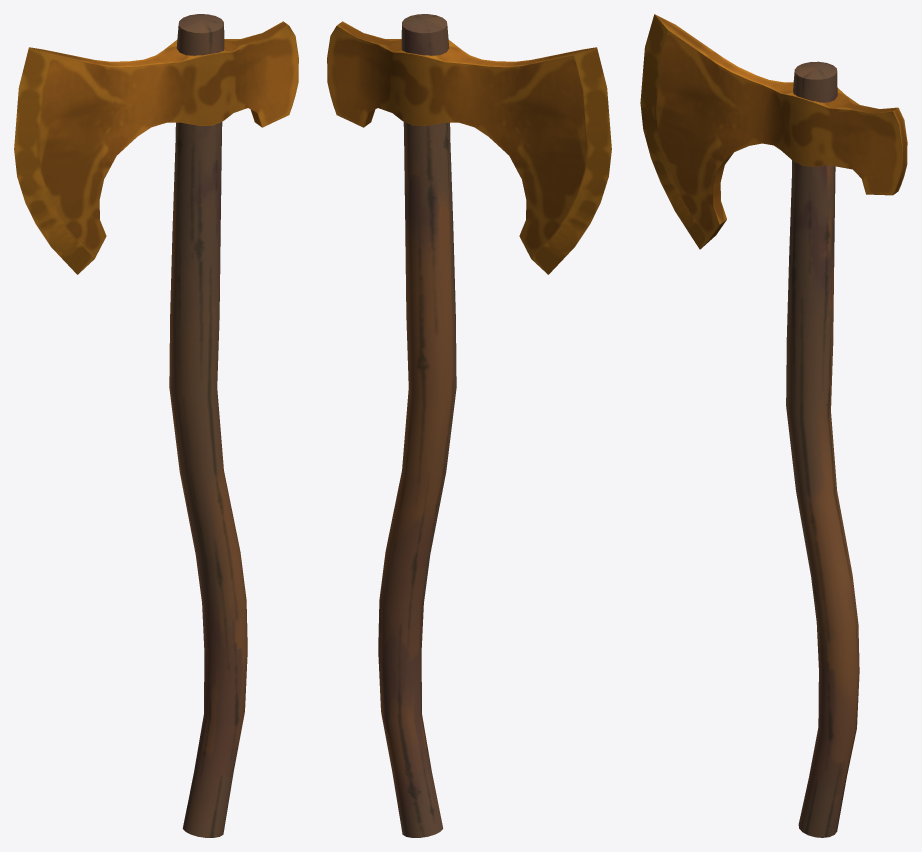
File: Axe_Bronze.gltf
3 renders of one model, left to right at view 1: azimuth 30°, elevation 25°; view 2: azimuth 150°, elevation 25°; view 3: azimuth 330°, elevation 25°, orthographic. The views are drawn at different scales.
Visible parts, largest first — view 1: Axe_Bronze; view 2: Axe_Bronze; view 3: Axe_Bronze.
Boxes of the visible parts, x1,y1,x2,y2 form: Axe_Bronze: [14, 14, 298, 837]; Axe_Bronze: [327, 14, 611, 837]; Axe_Bronze: [640, 14, 907, 837].
Size of the model in its own units: 0.2945 by 0.8269 by 0.046.
Materials: 1 (1 with a texture image).
